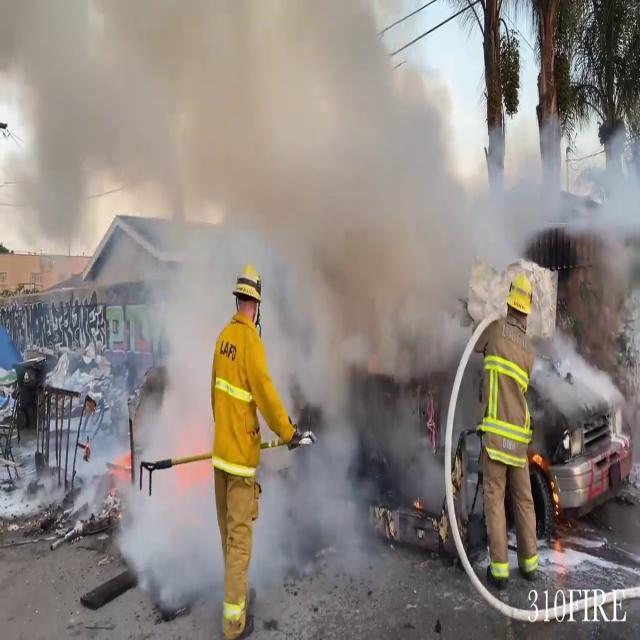Smoke: (2, 0, 614, 532)
